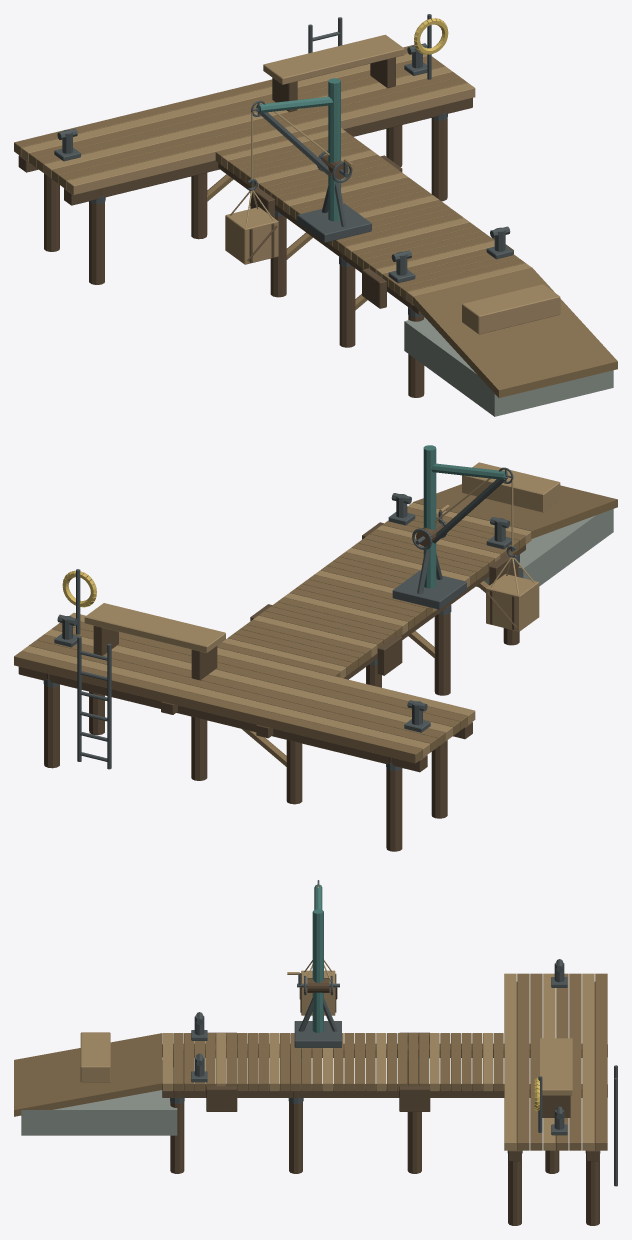
The model's file is dock.glb.
3 renders of one model, top to bottom at view 1: azimuth 30°, elevation 25°; view 2: azimuth 150°, elevation 25°; view 3: azimuth 270°, elevation 25°, orthographic. The views are drawn at different scales.
Visible parts, largest first — view 1: CrossheadDeck_mesh, Foundation_mesh, ShoreRamp_mesh, StemDeck_mesh, RestAndRescue_mesh, StemDeck.001_mesh, StemDeck.003_mesh, StemDeck.002_mesh, CraneStructure_mesh, PierFrame_mesh, MooringFittings_mesh, TemporaryMaterials_mesh (+2 smaller); view 2: CrossheadDeck_mesh, Foundation_mesh, StemDeck.003_mesh, StemDeck.002_mesh, RestAndRescue_mesh, PierFrame_mesh, CraneStructure_mesh, StemDeck.001_mesh, StemDeck_mesh, ShoreRamp_mesh, MooringFittings_mesh, HoistLoad_mesh (+3 smaller); view 3: CrossheadDeck_mesh, Foundation_mesh, ShoreRamp_mesh, StemDeck.003_mesh, StemDeck.002_mesh, StemDeck_mesh, StemDeck.001_mesh, PierFrame_mesh, MooringFittings_mesh, CraneStructure_mesh, RestAndRescue_mesh, TemporaryMaterials_mesh (+3 smaller).
Part boxes in pixels (x1=…): CrossheadDeck_mesh: x1=14, y1=45, x2=475, y2=194; Foundation_mesh: x1=44, y1=105, x2=613, y2=416; ShoreRamp_mesh: x1=413, y1=267, x2=617, y2=397; StemDeck_mesh: x1=364, y1=231, x2=531, y2=305; RestAndRescue_mesh: x1=263, y1=14, x2=448, y2=112; StemDeck.001_mesh: x1=327, y1=195, x2=482, y2=268; StemDeck.003_mesh: x1=215, y1=124, x2=382, y2=191; StemDeck.002_mesh: x1=265, y1=159, x2=432, y2=220; CraneStructure_mesh: x1=256, y1=78, x2=371, y2=242; PierFrame_mesh: x1=18, y1=98, x2=472, y2=314; MooringFittings_mesh: x1=54, y1=43, x2=513, y2=308; TemporaryMaterials_mesh: x1=462, y1=284, x2=560, y2=334; CrossheadDeck_mesh: x1=14, y1=612, x2=475, y2=763; Foundation_mesh: x1=43, y1=503, x2=613, y2=851; StemDeck.003_mesh: x1=217, y1=611, x2=383, y2=678; StemDeck.002_mesh: x1=265, y1=575, x2=432, y2=643; RestAndRescue_mesh: x1=62, y1=569, x2=225, y2=680; PierFrame_mesh: x1=18, y1=545, x2=525, y2=772; CraneStructure_mesh: x1=392, y1=445, x2=508, y2=609; StemDeck.001_mesh: x1=314, y1=538, x2=482, y2=612; StemDeck_mesh: x1=364, y1=502, x2=531, y2=576; ShoreRamp_mesh: x1=413, y1=484, x2=617, y2=538; MooringFittings_mesh: x1=54, y1=493, x2=513, y2=732; HoistLoad_mesh: x1=486, y1=545, x2=539, y2=631; CrossheadDeck_mesh: x1=504, y1=973, x2=607, y2=1150; Foundation_mesh: x1=21, y1=991, x2=600, y2=1225; ShoreRamp_mesh: x1=14, y1=1033, x2=162, y2=1116; StemDeck.003_mesh: x1=419, y1=1033, x2=503, y2=1091; StemDeck.002_mesh: x1=333, y1=1033, x2=418, y2=1091; StemDeck_mesh: x1=162, y1=1033, x2=247, y2=1091; StemDeck.001_mesh: x1=248, y1=1033, x2=332, y2=1091; PierFrame_mesh: x1=162, y1=982, x2=607, y2=1161; MooringFittings_mesh: x1=191, y1=959, x2=567, y2=1135; CraneStructure_mesh: x1=294, y1=884, x2=341, y2=1047; RestAndRescue_mesh: x1=534, y1=1038, x2=572, y2=1132; TemporaryMaterials_mesh: x1=80, y1=1032, x2=110, y2=1082.
Size of the model in its own units: 5.4 by 3.26 by 8.14.
